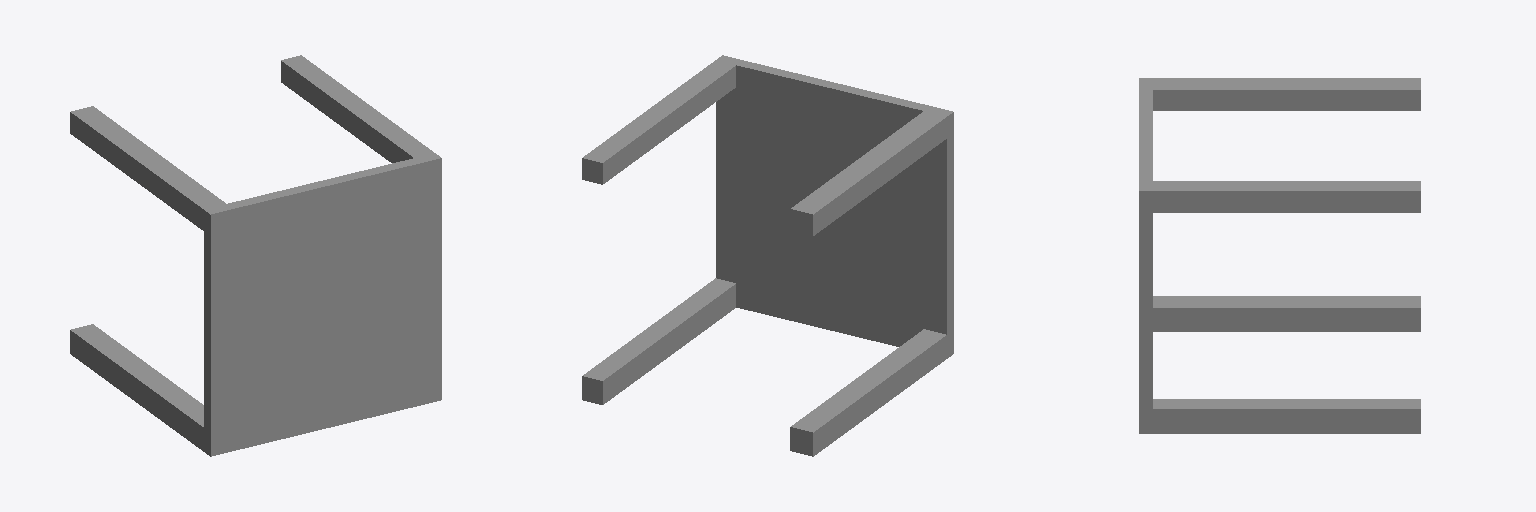
Rendered from TableTri.obj.
The picture shows the model from 3 angles: view 1: azimuth 30°, elevation 25°; view 2: azimuth 150°, elevation 25°; view 3: azimuth 270°, elevation 25°; orthographic projection.
Visible parts, largest first — view 1: Cube; view 2: Cube; view 3: Cube.
Part boxes in pixels (x1,y1,x2,y2): Cube: (70, 55, 441, 456); Cube: (582, 55, 953, 456); Cube: (1139, 78, 1420, 433).
Bounding box in the file's own units: 1.5 × 1.5 × 1.58.